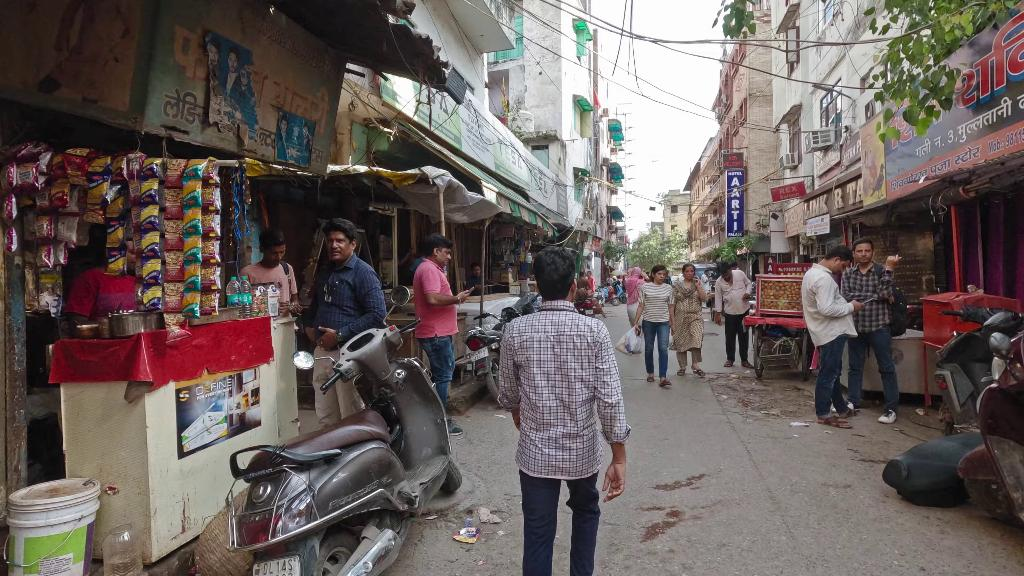garbage: (614, 325, 643, 358), (86, 171, 111, 205), (105, 246, 128, 277), (183, 233, 203, 264), (182, 179, 202, 208), (140, 204, 160, 232), (35, 215, 55, 242), (454, 526, 482, 544)
